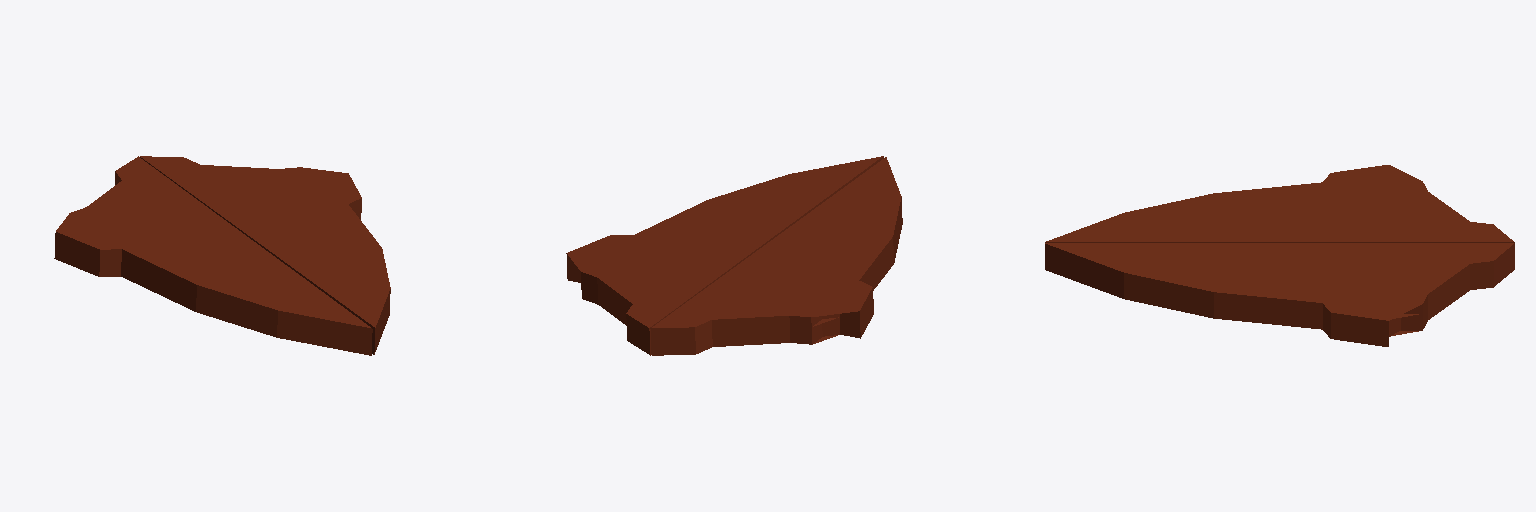
File: Escudo.obj
3 views of the same model, side by side, from view 1: azimuth 30°, elevation 25°; view 2: azimuth 150°, elevation 25°; view 3: azimuth 270°, elevation 25° (orthographic).
Visible parts, largest first — view 1: polySurface11; view 2: polySurface11; view 3: polySurface11.
Boxes of the visible parts, box(x1,y1,x2,y2) form: polySurface11: box(54, 156, 390, 355); polySurface11: box(566, 156, 902, 355); polySurface11: box(1045, 165, 1514, 346).
Size of the model in its own units: 1.56 by 0.2046 by 2.16.